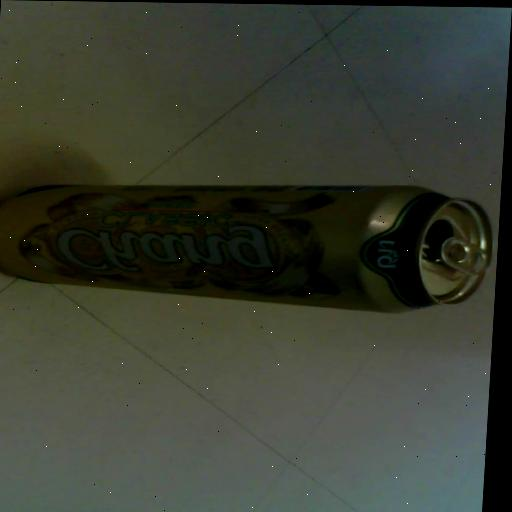canned: (0, 166, 502, 324)
